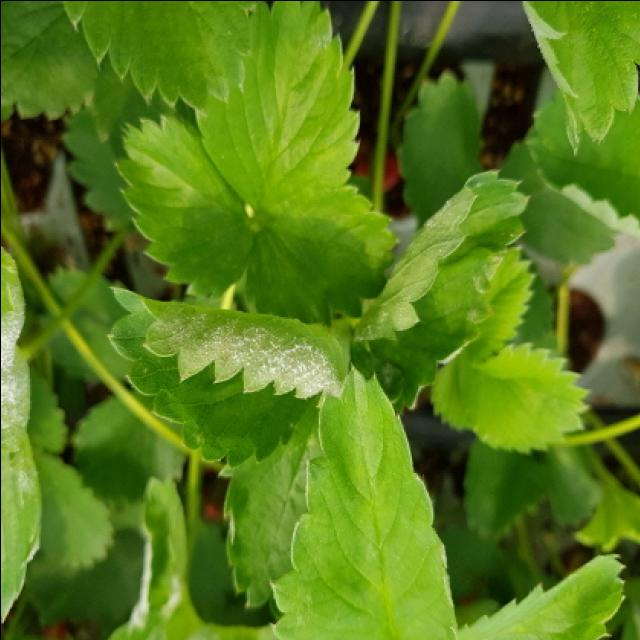Powdery Mildew Leaf: (347, 169, 532, 416), (105, 284, 350, 470), (192, 2, 362, 214), (109, 475, 278, 640), (2, 247, 43, 623)
